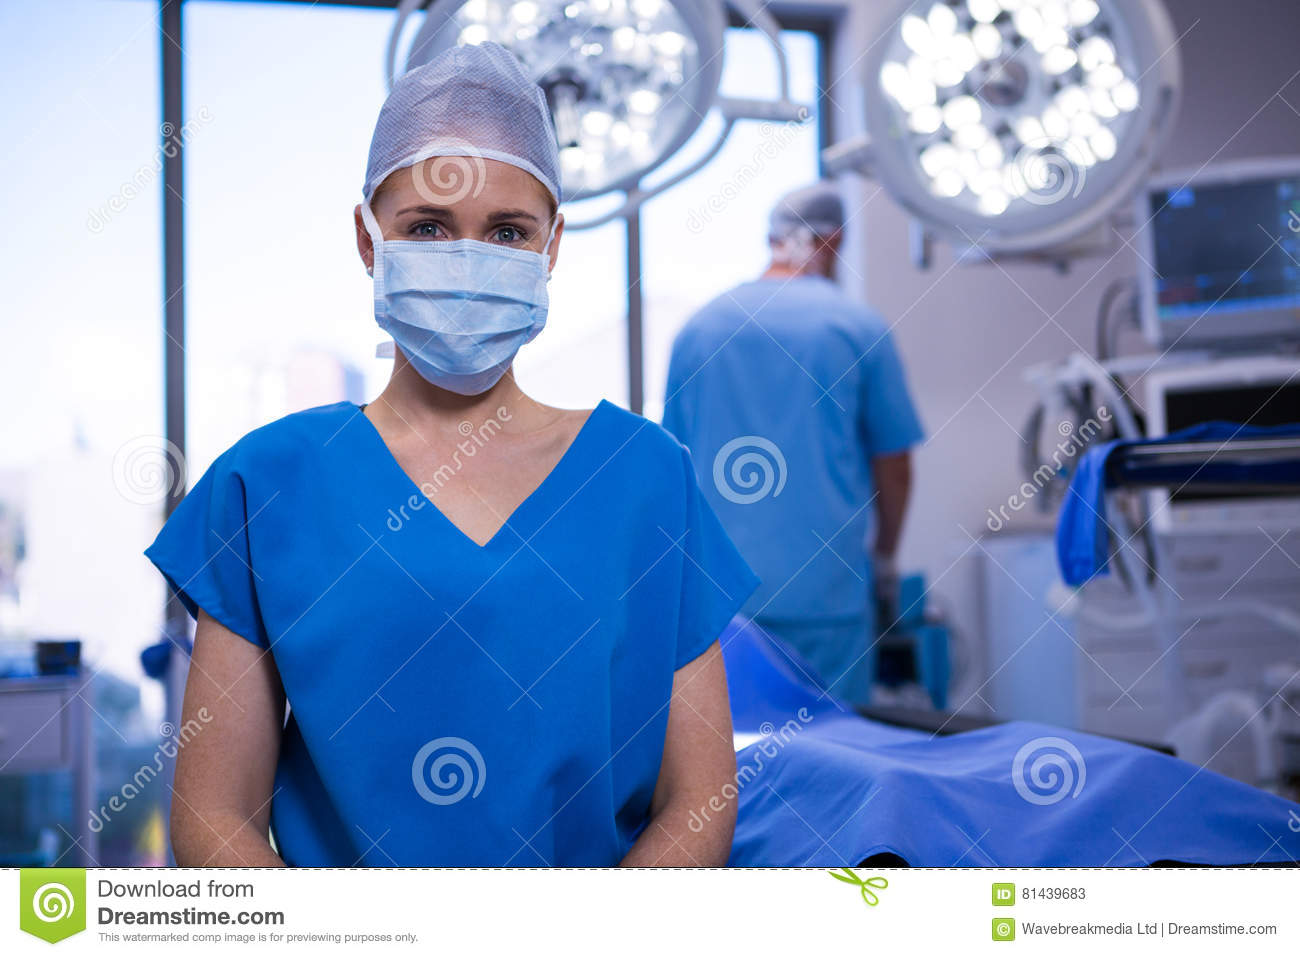mask: (367, 239, 551, 373)
